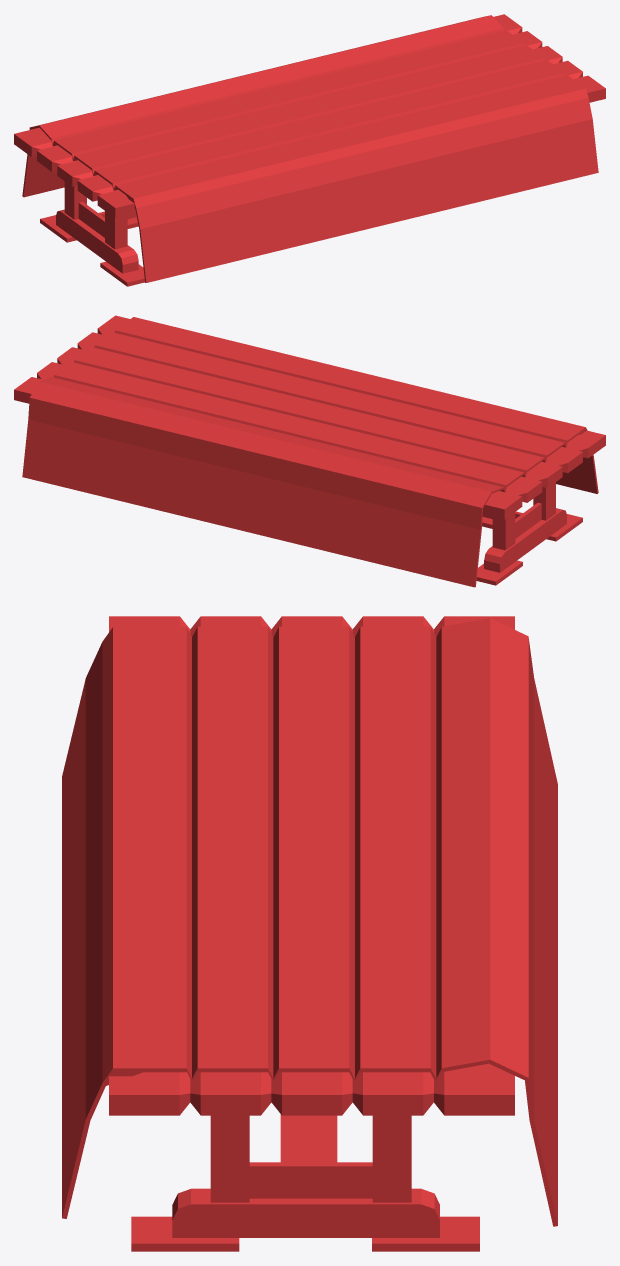
Rendered from Dining Table.001.fbx.
3 renders of one model, top to bottom at view 1: azimuth 30°, elevation 25°; view 2: azimuth 150°, elevation 25°; view 3: azimuth 270°, elevation 25°, orthographic. The views are drawn at different scales.
Visible parts, largest first — view 1: Dining Table.001; view 2: Dining Table.001; view 3: Dining Table.001.
Boxes of the visible parts, box(x1,y1,x2,y2) form: Dining Table.001: box(14, 14, 605, 286); Dining Table.001: box(14, 315, 605, 587); Dining Table.001: box(62, 616, 557, 1251).
Size of the model in its own units: 706 by 131 by 309.
